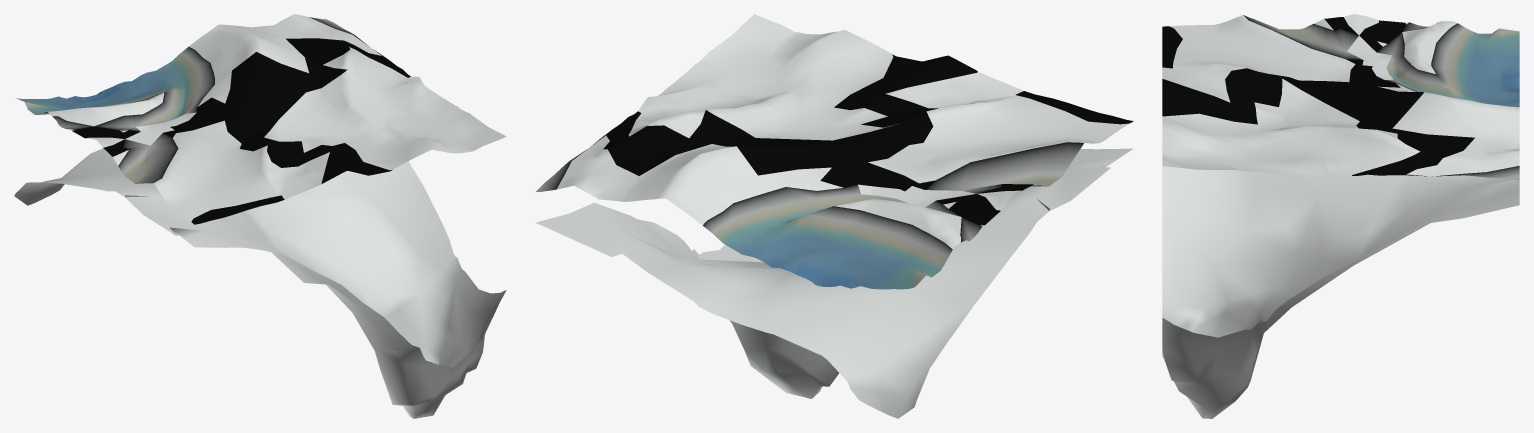
The picture shows the model from 3 angles, left to right: view 1: azimuth 30°, elevation 25°; view 2: azimuth 150°, elevation 25°; view 3: azimuth 270°, elevation 25°; orthographic projection. The views are drawn at different scales.
Visible parts, largest first — view 1: G:\FFXIV-MapTools\exports\u5f2\bg\ex4\04_uvs_u5\fld\u5f2\bgp (×7); view 2: G:\FFXIV-MapTools\exports\u5f2\bg\ex4\04_uvs_u5\fld\u5f2\bgp (×7); view 3: G:\FFXIV-MapTools\exports\u5f2\bg\ex4\04_uvs_u5\fld\u5f2\bgp (×7).
Part boxes in pixels (x1,y1,x2,y2): G:\FFXIV-MapTools\exports\u5f2\bg\ex4\04_uvs_u5\fld\u5f2\bgp (×7): (14, 14, 506, 418); G:\FFXIV-MapTools\exports\u5f2\bg\ex4\04_uvs_u5\fld\u5f2\bgp (×7): (535, 14, 1133, 418); G:\FFXIV-MapTools\exports\u5f2\bg\ex4\04_uvs_u5\fld\u5f2\bgp (×7): (1162, 14, 1519, 418).
Size of the model in its own units: 128 by 117 by 128.
